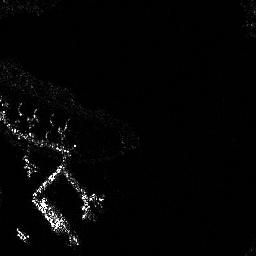ship: (39, 197, 79, 246), (83, 194, 107, 221)
